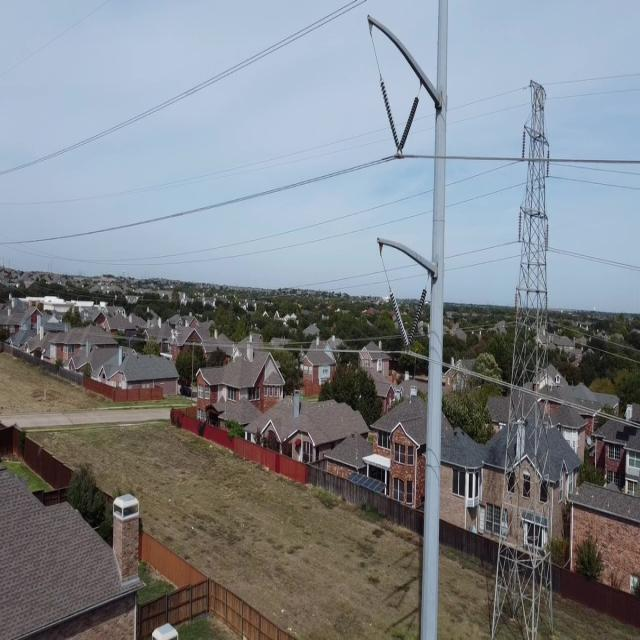杆塔: (486, 76, 559, 640)
正常电缆: (0, 0, 389, 192), (0, 144, 397, 260), (407, 349, 640, 438), (0, 322, 408, 358), (403, 150, 524, 169), (552, 153, 640, 174)
正常绝缘子: (378, 77, 423, 158), (388, 287, 430, 351), (511, 288, 520, 323), (544, 142, 552, 180), (517, 208, 523, 246), (520, 129, 527, 161), (545, 217, 550, 254)
